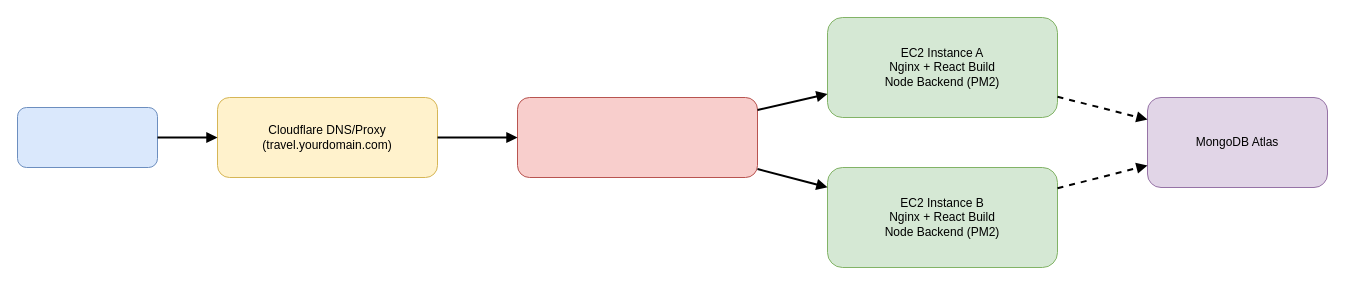
Some shapes in this 1345 by 285 pixel diagram are drawn without their labels. The box of each missing label's shape, as (x1, y1, x2, y2) in pixels:
AWS Application Load Balancer (HTTP/HTTPS): (516, 96, 758, 178)
User Browser: (16, 106, 158, 168)
